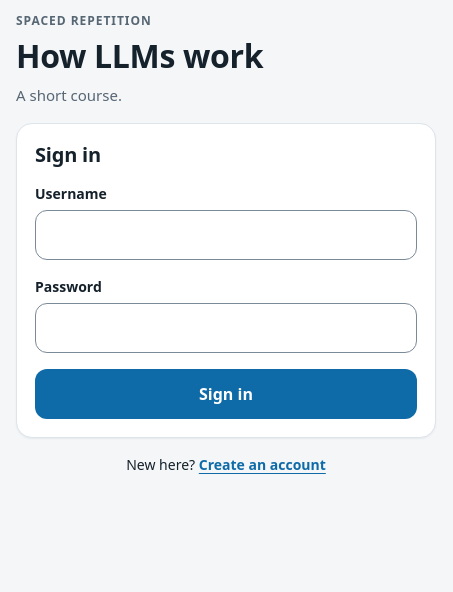
Test: SignIn › checks the account rules before signing up
Click the button "Create an account" at (262, 464), box [199,454,326,474]
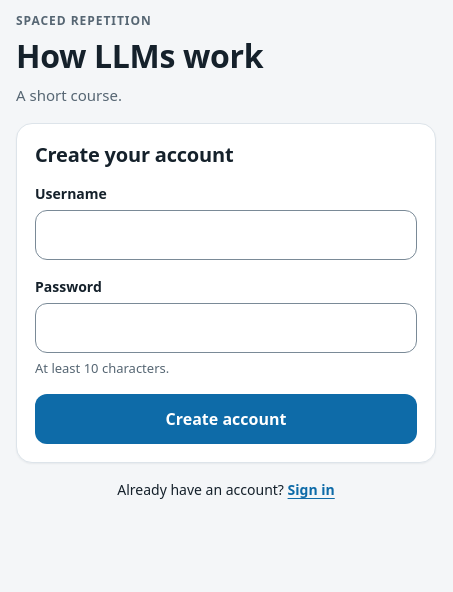
Type "ada" into the field labelled "Username" at (226, 234), box [35,210,417,260]
Type "short" into the password field labelled "Password" at (226, 328), box [35,302,417,352]
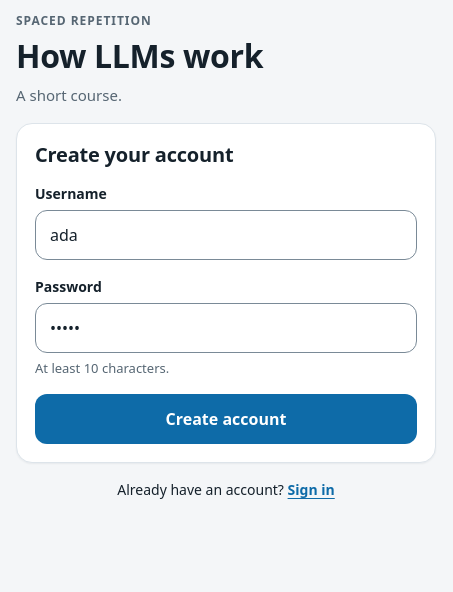
Click the button "Create account" at (226, 419), box [35,394,417,444]
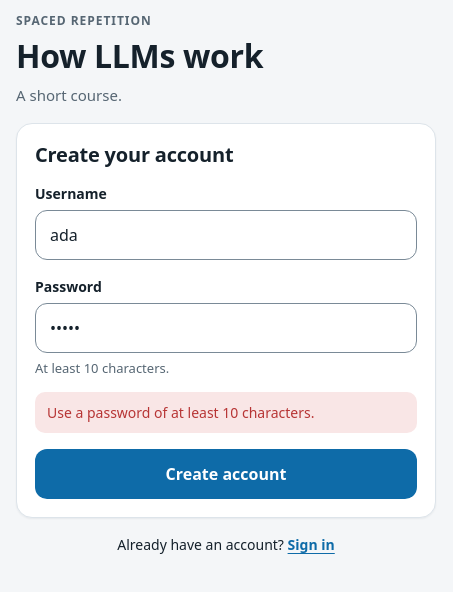
Expected: the message reads "Use a password of at least 10 characters.", [47,403,314,422]
Replace the text in the field labelled "Username" with "a b" at (226, 234), box [35,210,417,260]
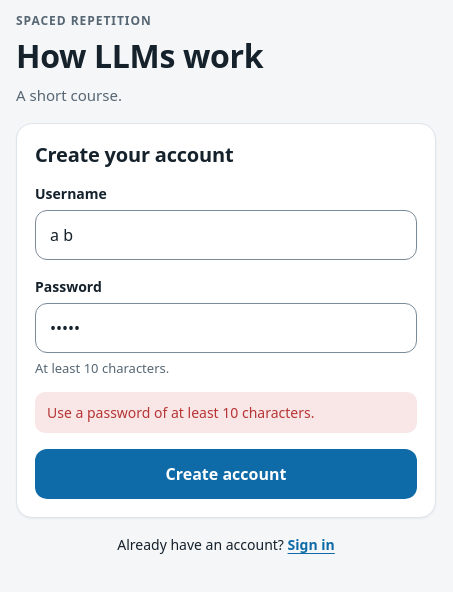
Type "long-enough-password" into the password field labelled "Password" at (226, 328), box [35,302,417,352]
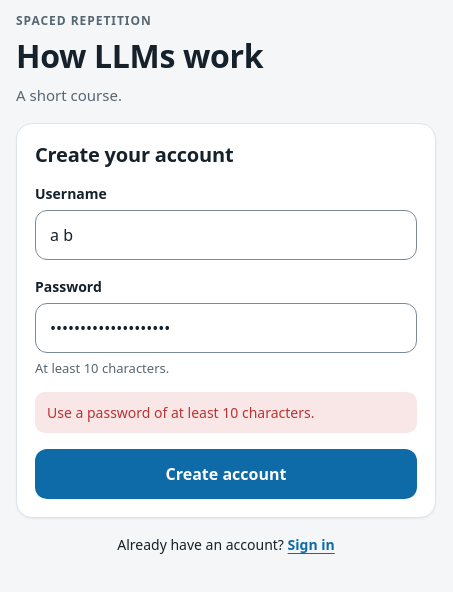
Click the button "Create account" at (226, 474), box [35,449,417,499]
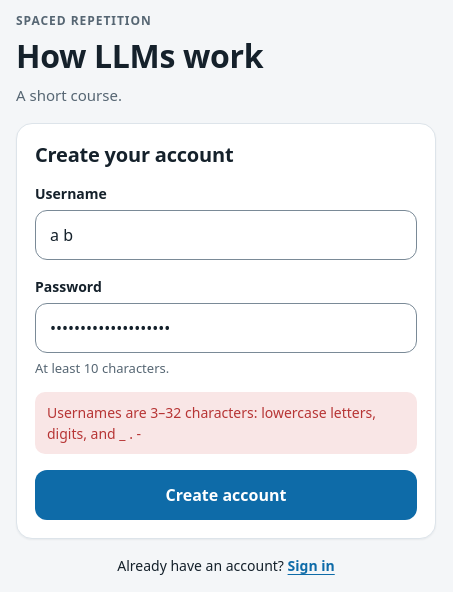
Expected: the message shows "Usernames are 3–32 characters", [47,403,376,443]
